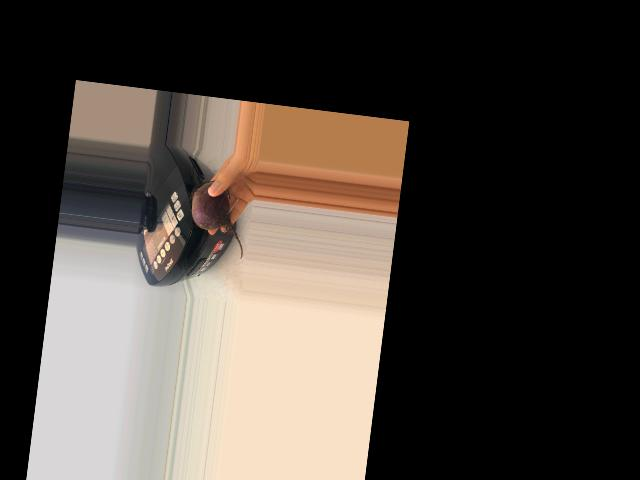beet: (183, 179, 251, 259)
